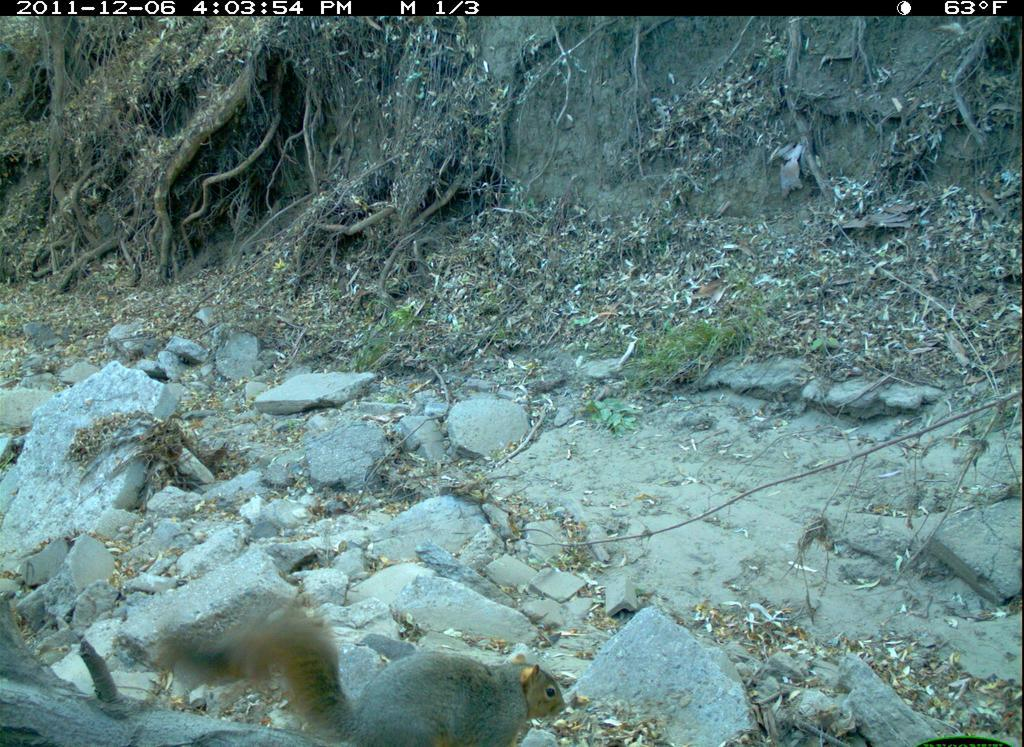squirrel: (162, 598, 570, 747)
